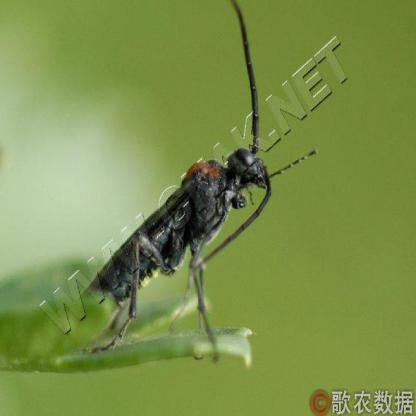sawfly: (54, 0, 316, 363)
